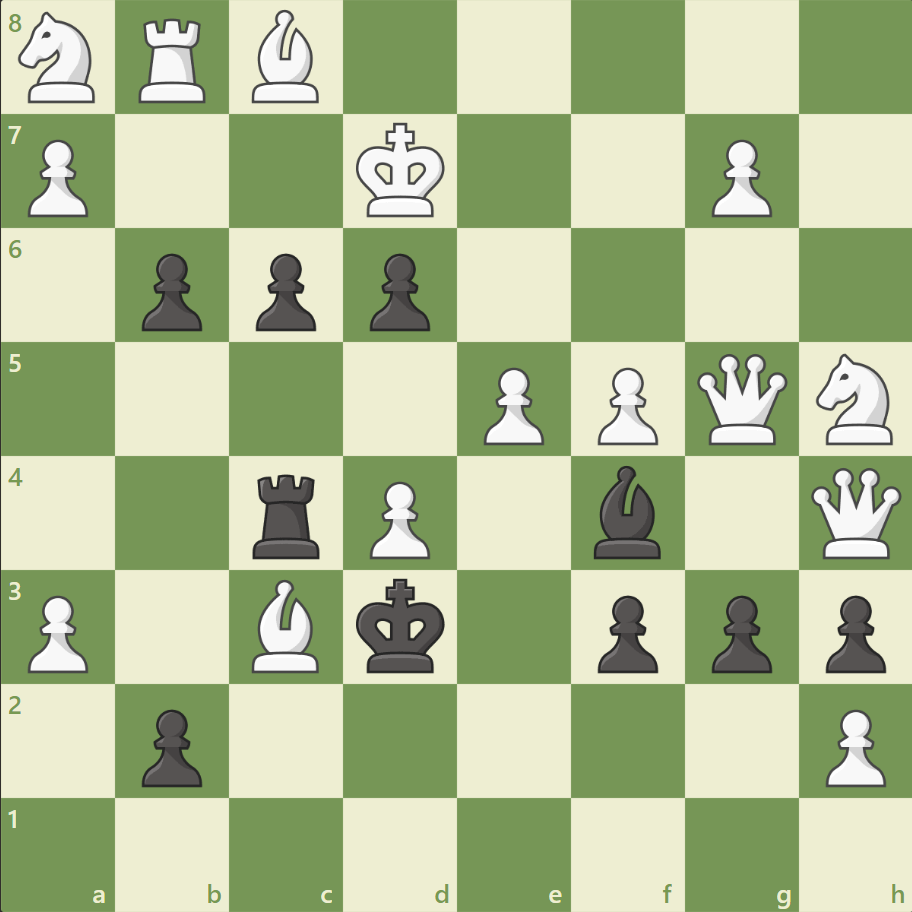B: (244, 6, 328, 109), (244, 574, 328, 676)
K: (351, 117, 451, 225)
N: (11, 7, 108, 110), (806, 348, 903, 450)
P: (20, 132, 95, 223), (701, 132, 776, 223), (474, 359, 549, 450), (20, 586, 95, 677), (588, 359, 662, 450), (361, 473, 435, 564), (815, 700, 889, 791)
Q: (691, 349, 790, 449), (805, 463, 904, 562)
R: (133, 12, 215, 109)
b: (585, 460, 669, 563)
k: (351, 571, 451, 679)
p: (133, 246, 208, 337), (247, 246, 322, 337), (701, 586, 776, 677), (133, 700, 208, 791), (361, 246, 435, 337), (588, 586, 662, 677), (815, 586, 889, 677)
r: (246, 466, 329, 563)
